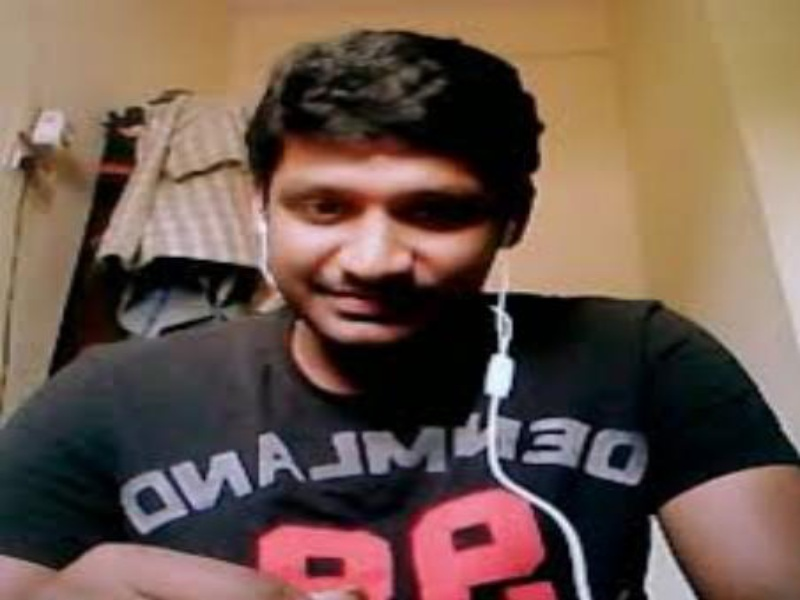TsisyArotava: (238, 31, 546, 368)
